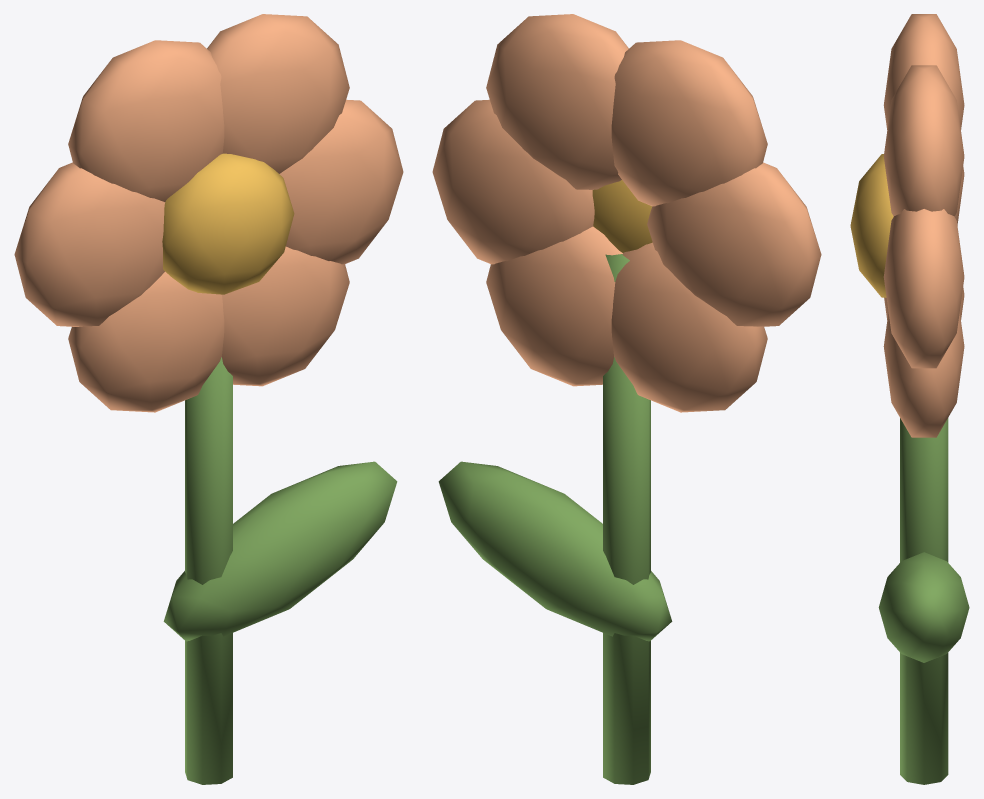
Rendered from garden-flower-coral.glb.
3 renders of one model, left to right at view 1: azimuth 30°, elevation 25°; view 2: azimuth 150°, elevation 25°; view 3: azimuth 270°, elevation 25°, orthographic. The views are drawn at different scales.
Visible parts, largest first — view 1: garden-flower-coral_Petal coral, garden-flower-coral_leaf, Golden pollen; view 2: garden-flower-coral_Petal coral, garden-flower-coral_leaf, Golden pollen; view 3: garden-flower-coral_Petal coral, garden-flower-coral_leaf, Golden pollen.
Boxes of the visible parts, x1,y1,x2,y2 form: garden-flower-coral_Petal coral: (14,14,403,412); garden-flower-coral_leaf: (163,357,397,784); Golden pollen: (162,153,294,294); garden-flower-coral_Petal coral: (432,14,821,412); garden-flower-coral_leaf: (438,254,672,784); Golden pollen: (592,180,652,252); garden-flower-coral_Petal coral: (883,14,964,437); garden-flower-coral_leaf: (878,418,969,784); Golden pollen: (850,154,893,297).
Size of the model in its own units: 0.4207 by 0.7989 by 0.118.
